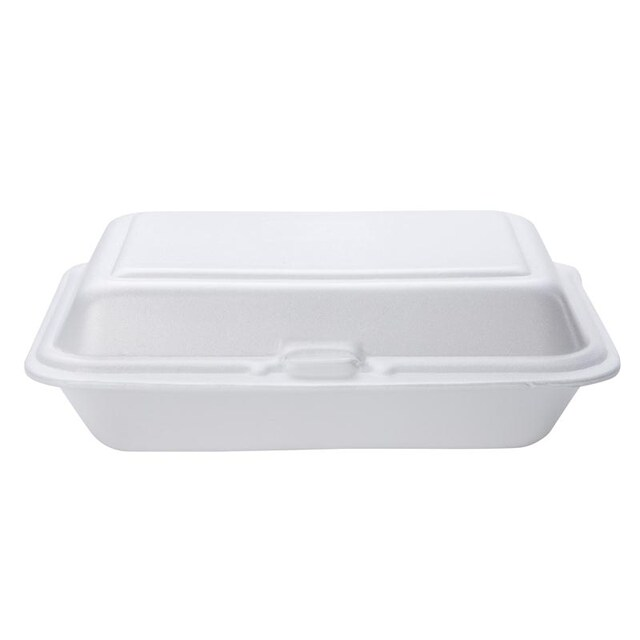Foam Box: (19, 202, 628, 460)
